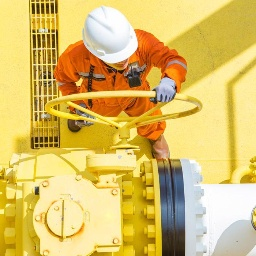helmet: (76, 5, 143, 65)
person: (55, 5, 179, 157)
vest: (59, 42, 179, 160)
